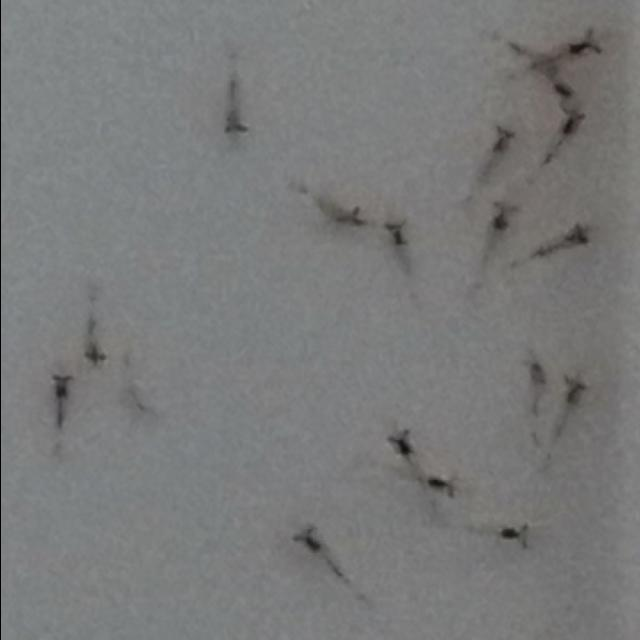shrimp-seed: (538, 221, 594, 259), (218, 76, 250, 140), (562, 22, 606, 64), (320, 192, 366, 230), (487, 118, 521, 160), (488, 198, 523, 238), (423, 468, 461, 503), (79, 322, 106, 370), (554, 103, 586, 142), (560, 373, 592, 412), (386, 426, 418, 464), (292, 518, 326, 553), (379, 216, 411, 252), (524, 354, 551, 392), (51, 374, 71, 424), (499, 521, 532, 549), (546, 77, 579, 101)
